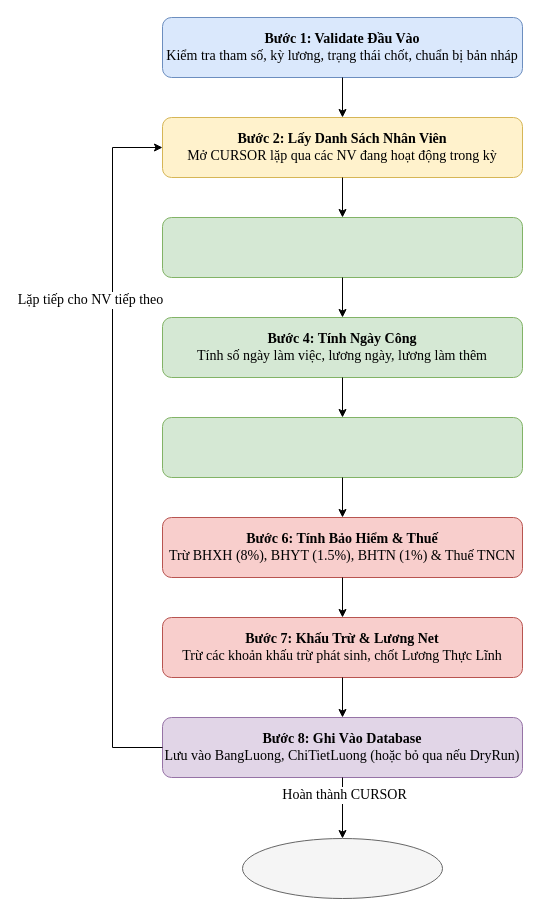
Image size: 540x916. Some labels were removed from this diagram. The box of each missing label's shape, as (x1, y1, x2, y2) in pixels:
Bước 3: Lấy Hợp Đồng & Lương CB Xác định mức lương cơ bản và lương đóng BHXH: (162, 216, 522, 278)
Bước 5: Tính Phụ Cấp Tổng hợp các phụ cấp, xác định phần chịu thuế TNCN: (162, 416, 522, 478)
Kết Thúc Trả về kết quả tổng hợp: (242, 838, 442, 898)
